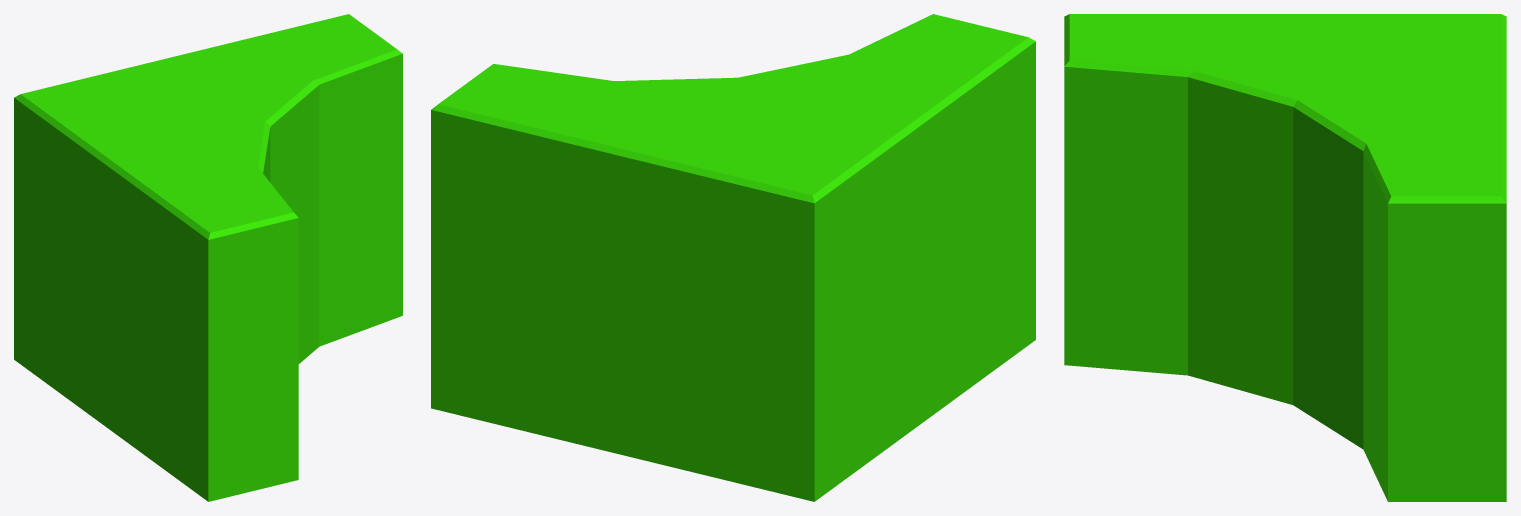
File: round_4x3_03.fbx
The picture shows the model from 3 angles, left to right: view 1: azimuth 30°, elevation 25°; view 2: azimuth 150°, elevation 25°; view 3: azimuth 270°, elevation 25°; orthographic projection. The views are drawn at different scales.
Parts seen in each view (by area): view 1: round_4x3_03; view 2: round_4x3_03; view 3: round_4x3_03.
Boxes of the visible parts, x1,y1,x2,y2 form: round_4x3_03: (14,14,402,501); round_4x3_03: (431,14,1035,501); round_4x3_03: (1064,14,1506,501).
Bounding box in the file's own units: 410 × 310 × 410.
